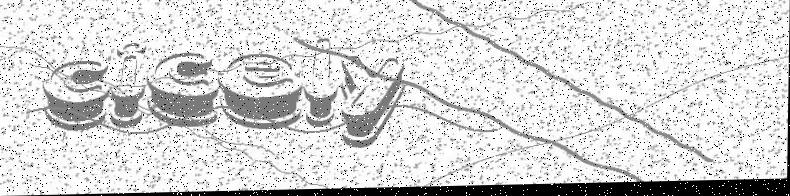c: (146, 52, 219, 129), (42, 59, 108, 133)
e: (216, 52, 303, 132)
i: (110, 42, 147, 129)
l: (304, 37, 340, 130)
y: (339, 55, 405, 151)
